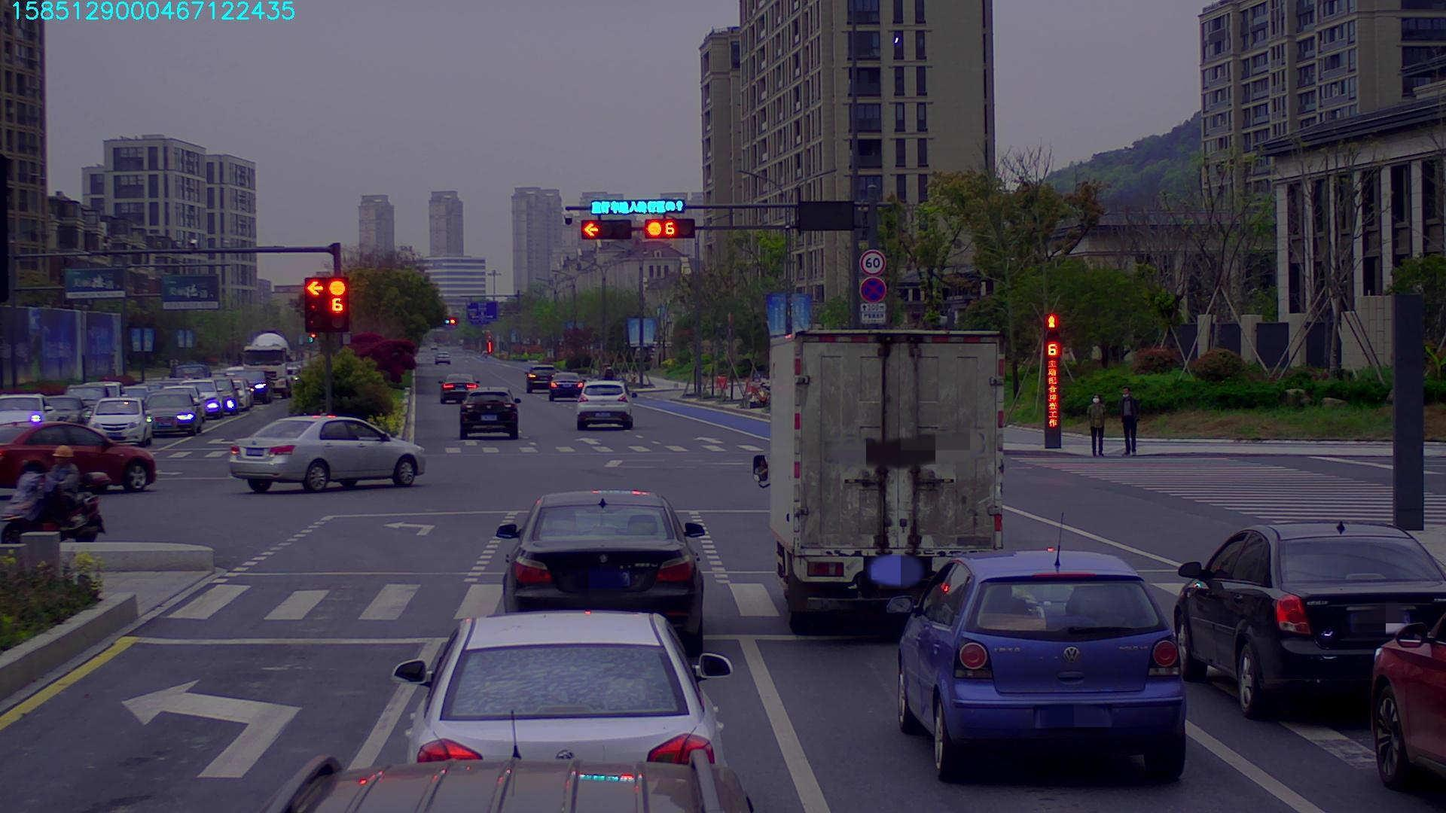red: (645, 217, 696, 233), (580, 221, 627, 237)
wait_on: (592, 198, 686, 217)
